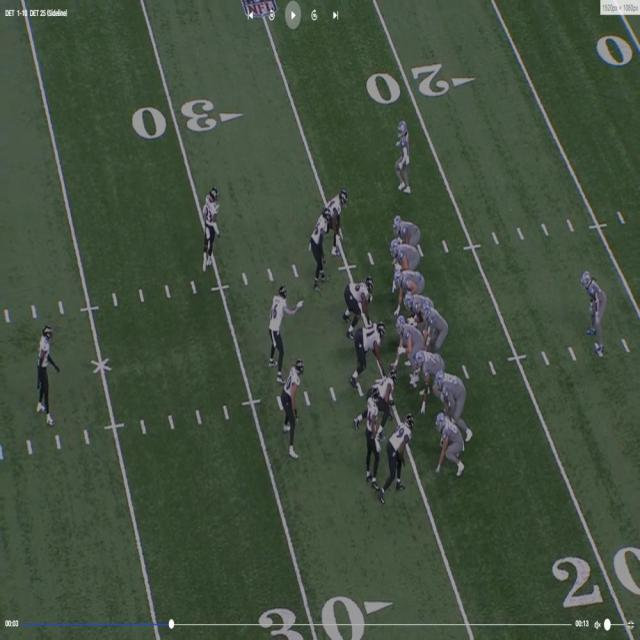center: (390, 307, 416, 374)
db: (282, 356, 304, 458), (202, 186, 220, 272), (40, 325, 54, 424), (364, 389, 378, 487)
lb: (312, 203, 335, 275), (388, 418, 409, 491), (328, 191, 348, 258), (272, 287, 287, 376)
qb: (420, 297, 442, 347)
skill: (432, 414, 467, 473), (584, 268, 609, 350), (397, 115, 412, 192), (392, 212, 426, 242), (390, 239, 420, 267)
